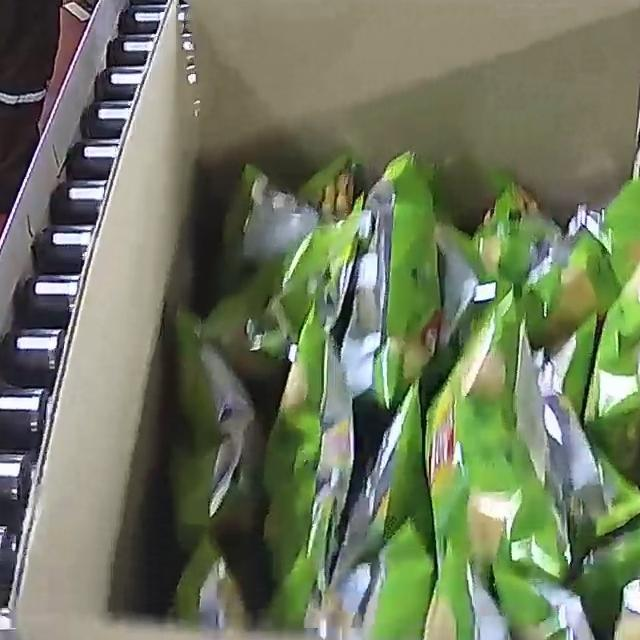yogurt: (161, 145, 640, 640)
